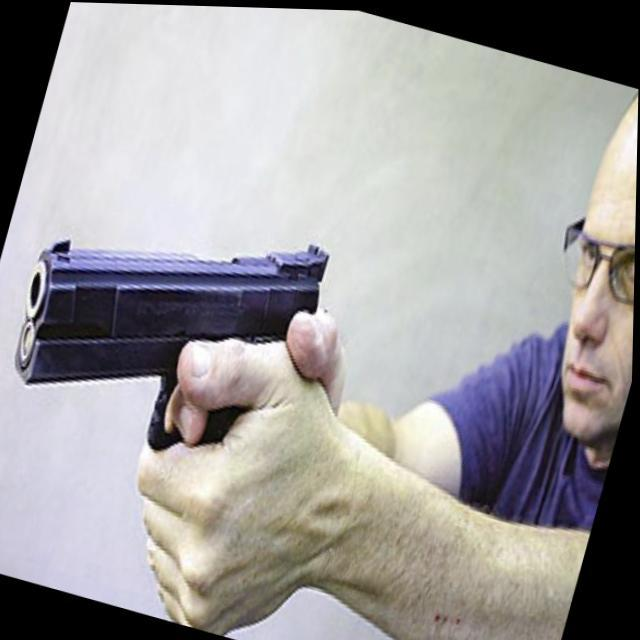weapon: (0, 167, 337, 482)
